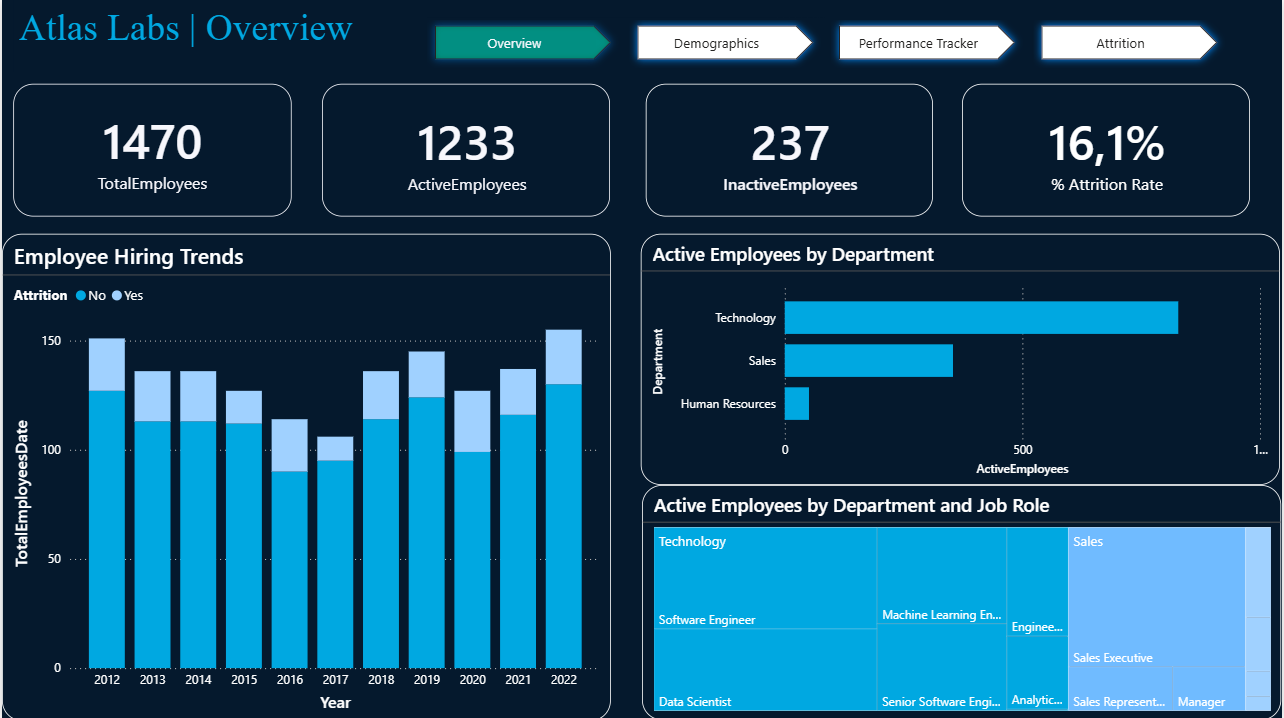

Layout of this report page (visuals, bound fields, positions):
{"tool":"powerbi","page":{"name":"Overview","canvas":[1280,720],"ordinal":0},"visuals":[{"type":"card","fields":{"Values":["_Measures.TotalEmployees"]},"box":[11,83.4,278.5,132.5],"z":0},{"type":"card","fields":{"Values":["_Measures.ActiveEmployees"]},"box":[320.2,83.4,288.3,132.5],"z":1000},{"type":"card","fields":{"Values":["_Measures.InactiveEmployees"]},"box":[644.2,83.4,287.1,132.5],"z":2000},{"type":"card","fields":{"Values":["_Measures.% Attrition Rate"]},"box":[959.5,83.4,288.3,132.5],"z":3000},{"type":"columnChart","title":"Employee Hiring Trends","fields":{"Category":["DimDate.Date.Variation.Date Hierarchy.Year","DimDate.Date.Variation.Date Hierarchy.Quarter","DimDate.Date.Variation.Date Hierarchy.Month","DimDate.Date.Variation.Date Hierarchy.Day"],"Y":["_Measures.TotalEmployeesDate"],"Series":["DimEmployee.Attrition"]},"box":[0,233.1,608.6,487.1],"z":4000},{"type":"clusteredBarChart","title":"Active Employees by Department","fields":{"Category":["DimEmployee.Department"],"Y":["_Measures.ActiveEmployees"]},"box":[639.3,233.1,639.3,251.5],"z":5000},{"type":"treemap","title":"Active Employees by Department and Job Role","fields":{"Values":["_Measures.ActiveEmployees"],"Group":["DimEmployee.Department"],"Details":["DimEmployee.JobRole"]},"box":[640.6,484.8,639.1,235.2],"z":6000},{"type":"textbox","box":[11,0,1268.7,72.4],"z":7000},{"type":"pageNavigator","box":[425.6,17.3,799.3,50.5],"z":8000}]}

Visuals, with their boxes in screenshot pixels (x1, y1, x2, y2), scaled from the page's 1280x720 canvas onto the 1284x718 screenshot:
card - _Measures.TotalEmployees: locate(11, 83, 290, 215)
card - _Measures.ActiveEmployees: locate(321, 83, 610, 215)
card - _Measures.InactiveEmployees: locate(646, 83, 934, 215)
card - _Measures.% Attrition Rate: locate(962, 83, 1252, 215)
"Employee Hiring Trends" columnChart: locate(0, 232, 611, 717)
"Active Employees by Department" clusteredBarChart: locate(641, 232, 1283, 483)
"Active Employees by Department and Job Role" treemap: locate(643, 483, 1283, 717)
textbox: locate(11, 0, 1283, 72)
pageNavigator: locate(427, 17, 1229, 68)
